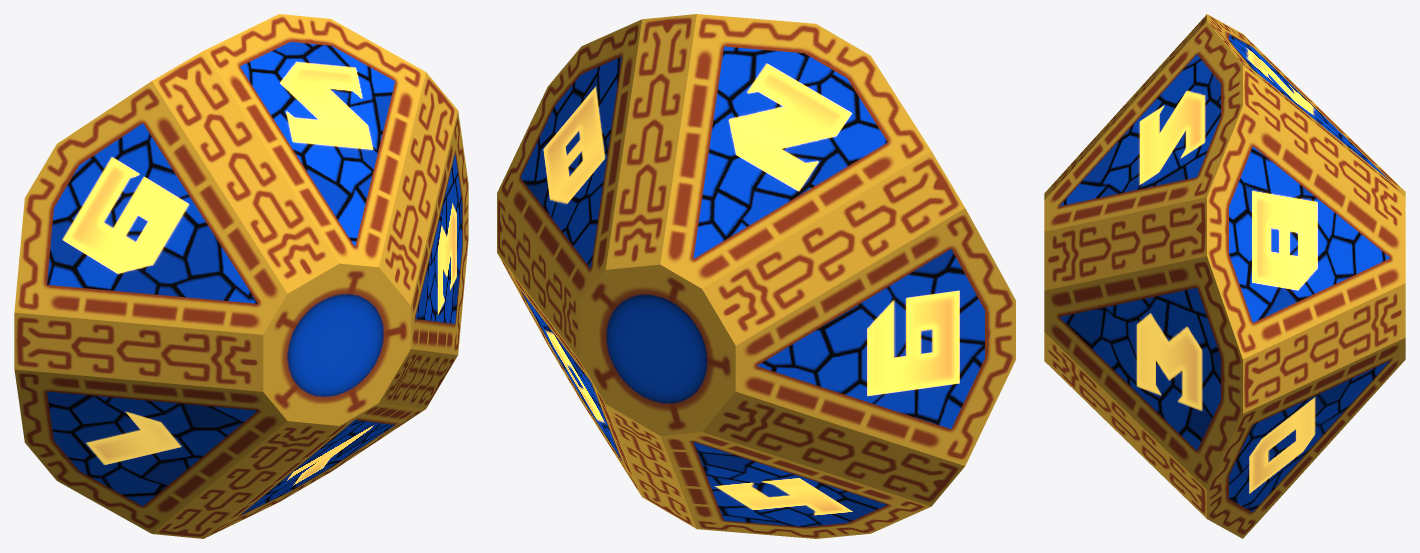
3 views of the same model, side by side, from view 1: azimuth 30°, elevation 25°; view 2: azimuth 150°, elevation 25°; view 3: azimuth 270°, elevation 25° (orthographic). The views are drawn at different scales.
Visible parts, largest first — view 1: D10; view 2: D10; view 3: D10.
Part boxes in pixels (x1=…): D10: x1=14, y1=14, x2=468, y2=538; D10: x1=497, y1=14, x2=1015, y2=538; D10: x1=1044, y1=14, x2=1405, y2=538.
Bounding box in the file's own units: 172 × 169 × 119.
1 material, 1 textured.
